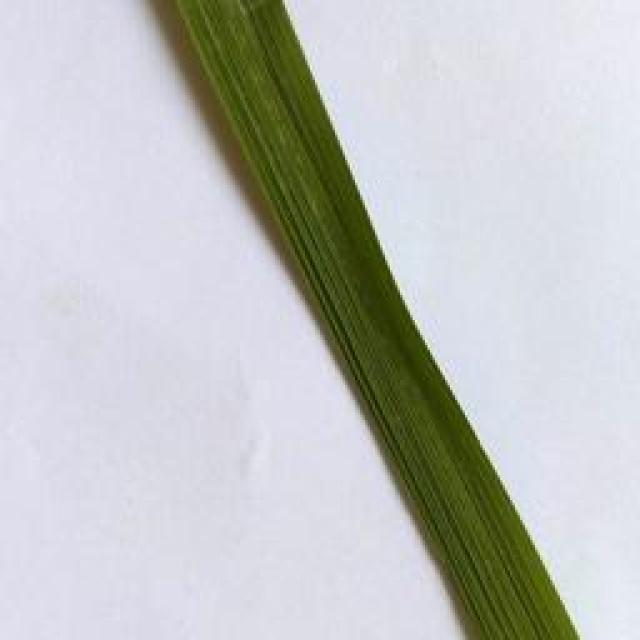Healthy-Plant: (169, 3, 576, 640)
